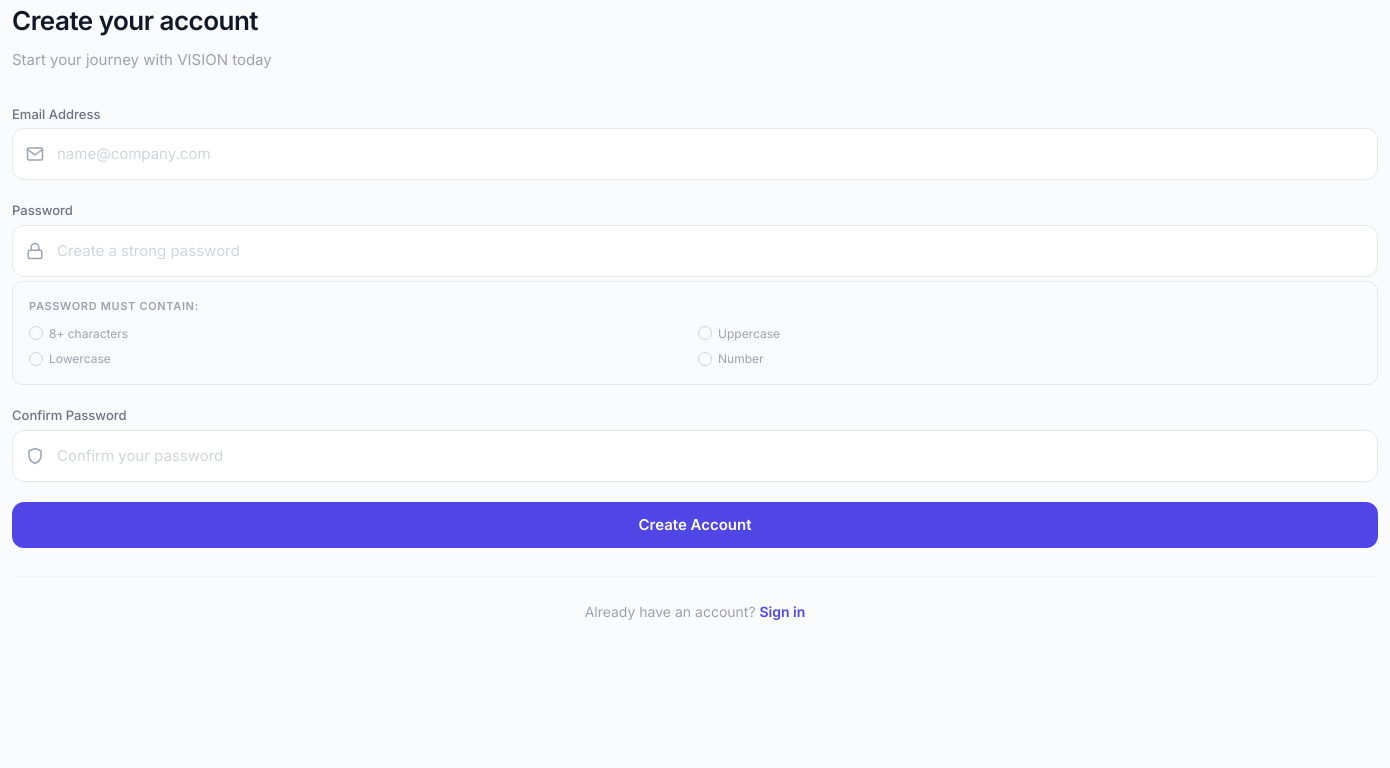
Test: RegisterForm › should show validation error for mismatched passwords
Type "test@example.com" into the field labelled "Email Address".
click(695, 154); type("test@example.com")  # box left=12, top=128, right=1378, bottom=180
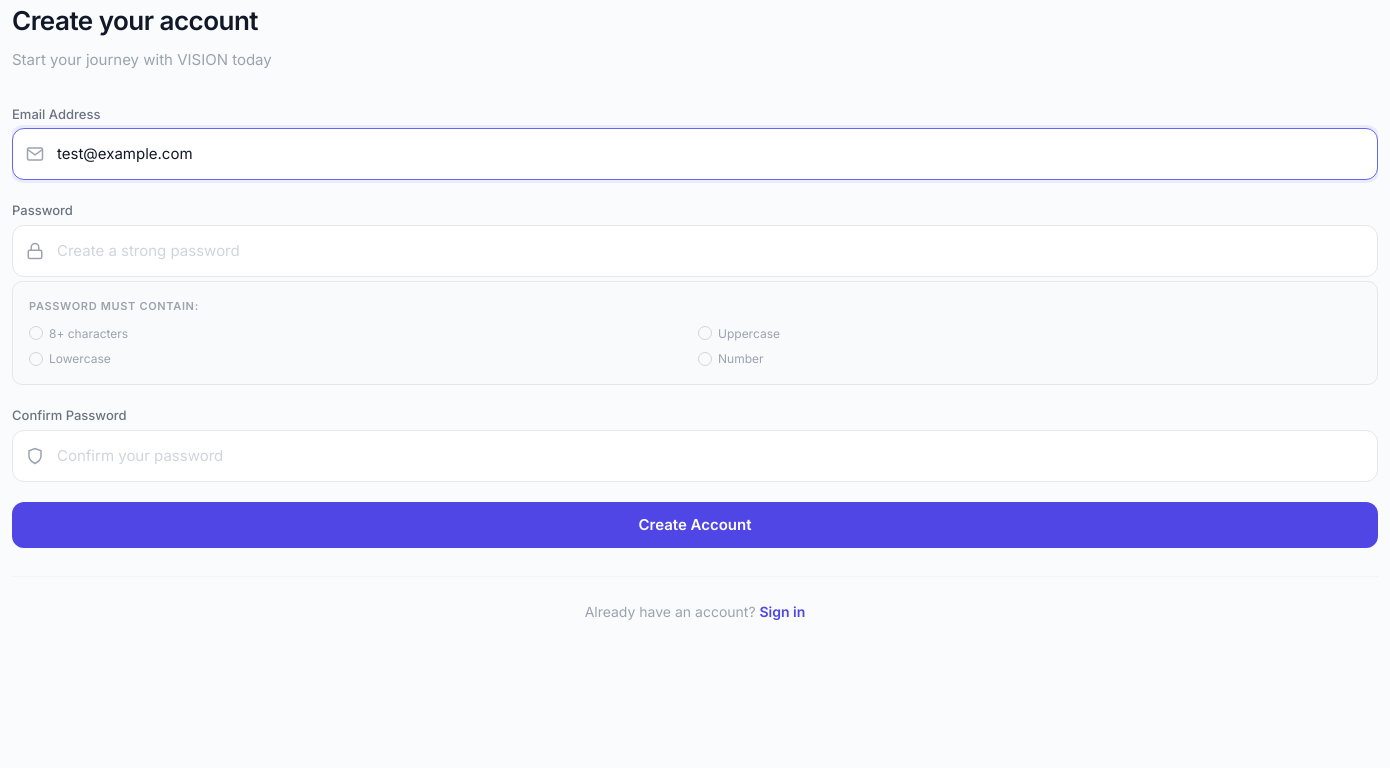
Type "ValidPass123" into the password field labelled "Password".
click(695, 251); type("ValidPass123")  # box left=12, top=225, right=1378, bottom=277
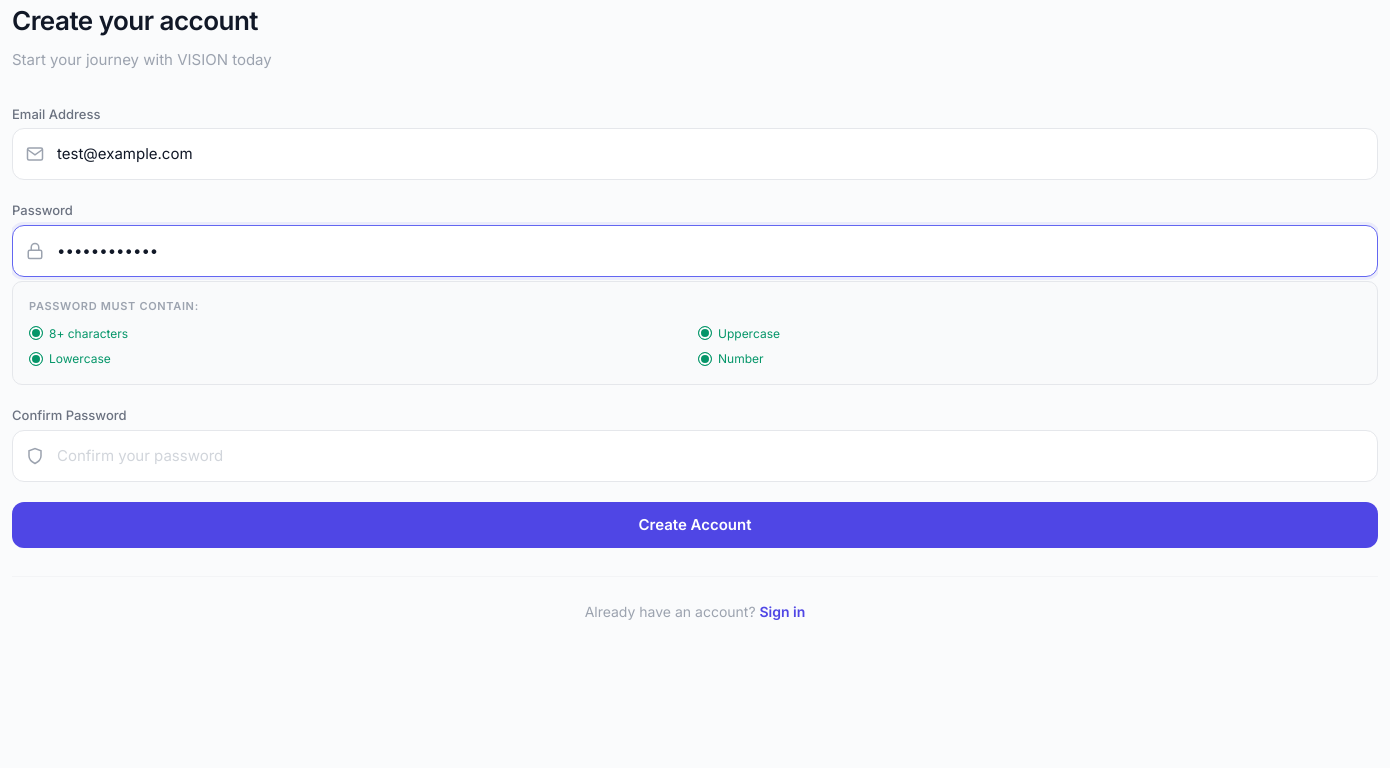
Type "DifferentPass123" into the password field labelled "Confirm Password".
click(695, 456); type("DifferentPass123")  # box left=12, top=430, right=1378, bottom=482
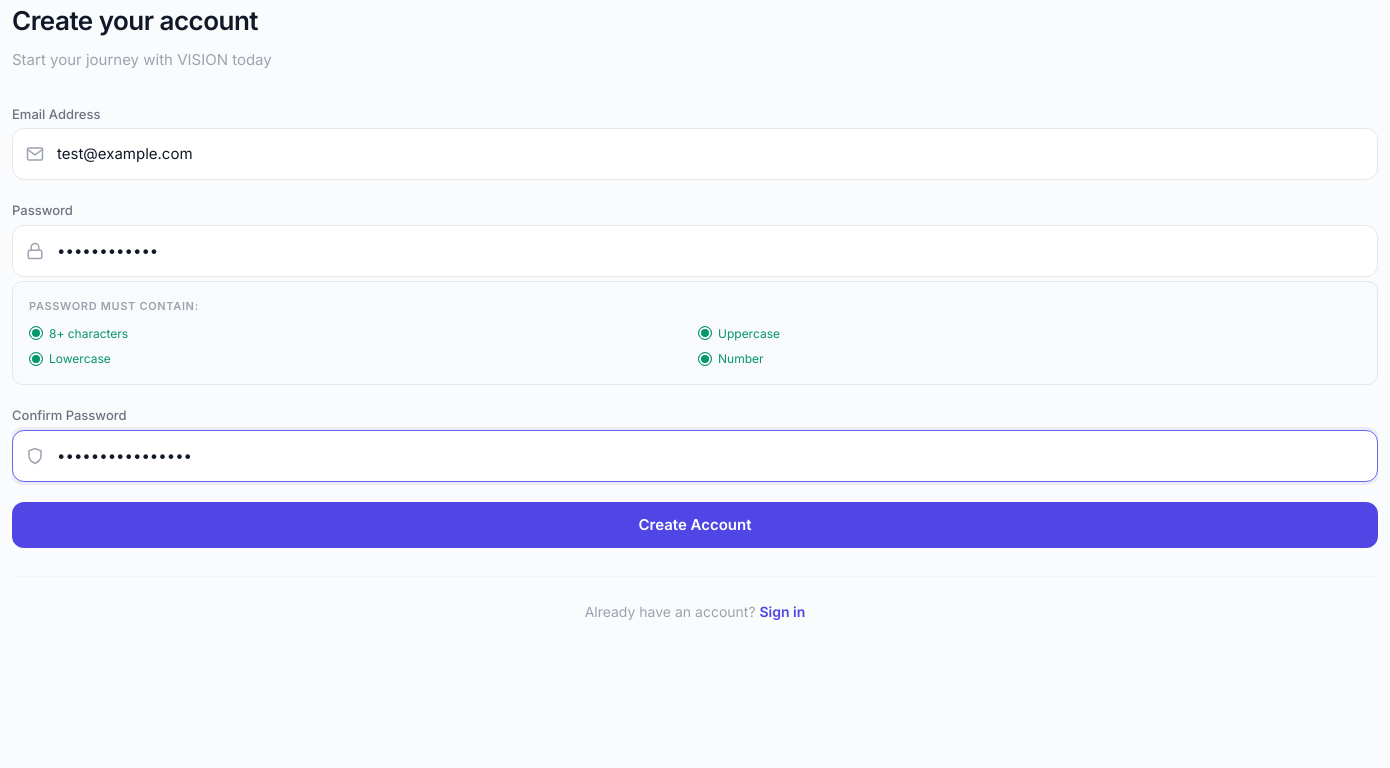
Click the button "Create Account".
click(695, 525)  # box left=12, top=502, right=1378, bottom=548
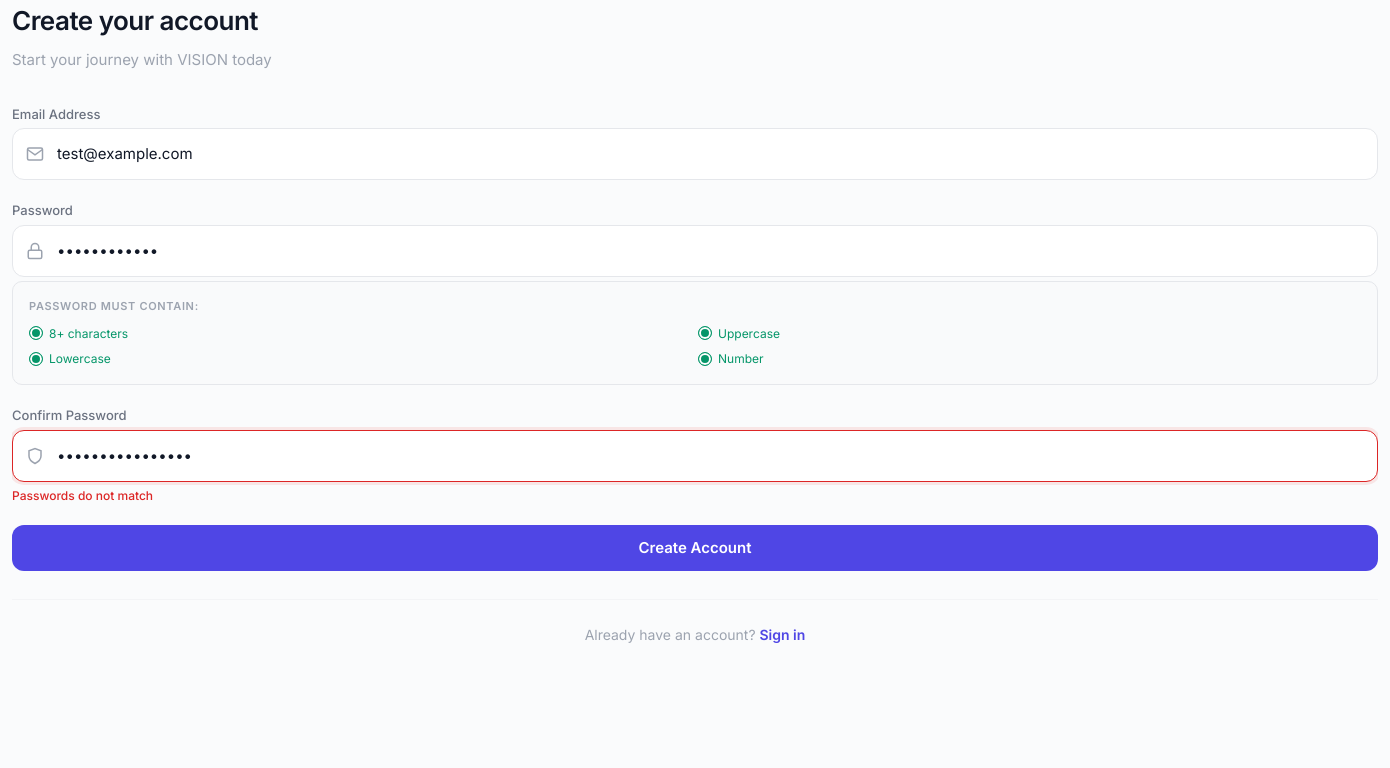
Check: the text "Passwords do not match" is shown, box left=12, top=488, right=153, bottom=503
